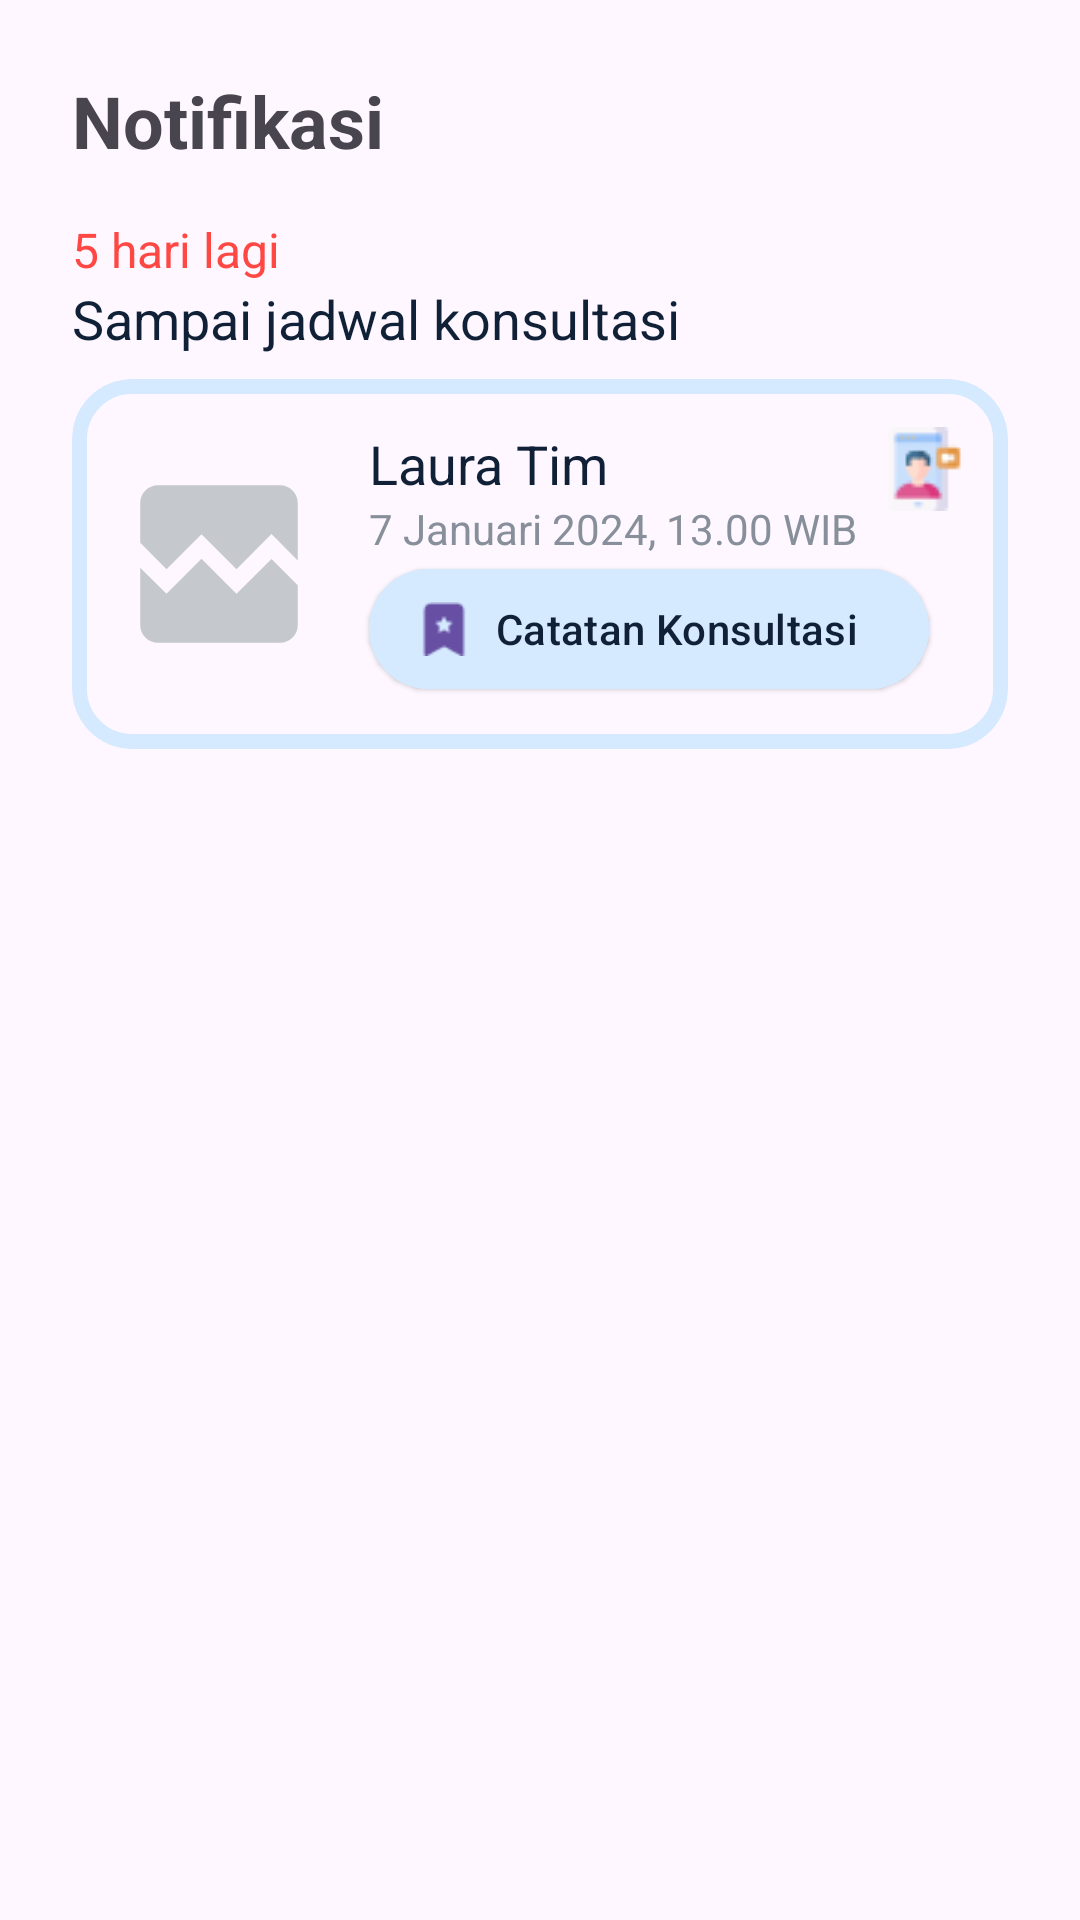

Where icons sit on this 1080 × 1920 app screen, as (x1, y1, x2, y2):
vidcall consultation: (894, 427, 961, 511)
